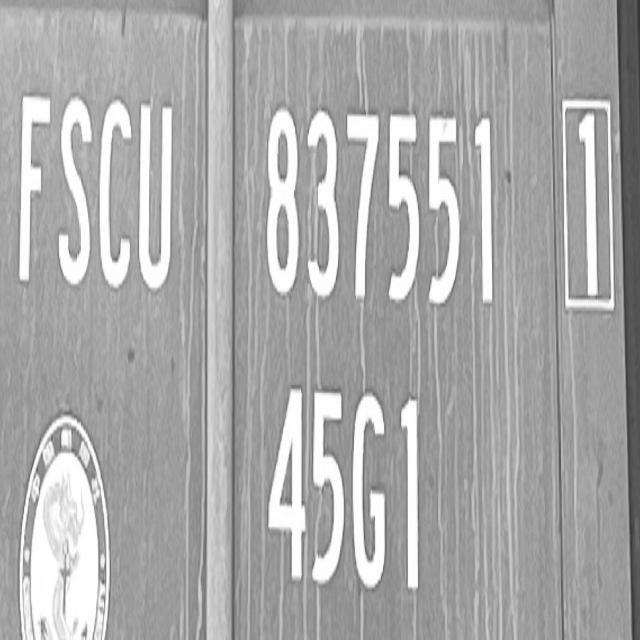dv: (536, 92, 630, 323)
owner: (0, 91, 187, 303)
serial: (242, 97, 503, 319)
size: (251, 373, 441, 600)
